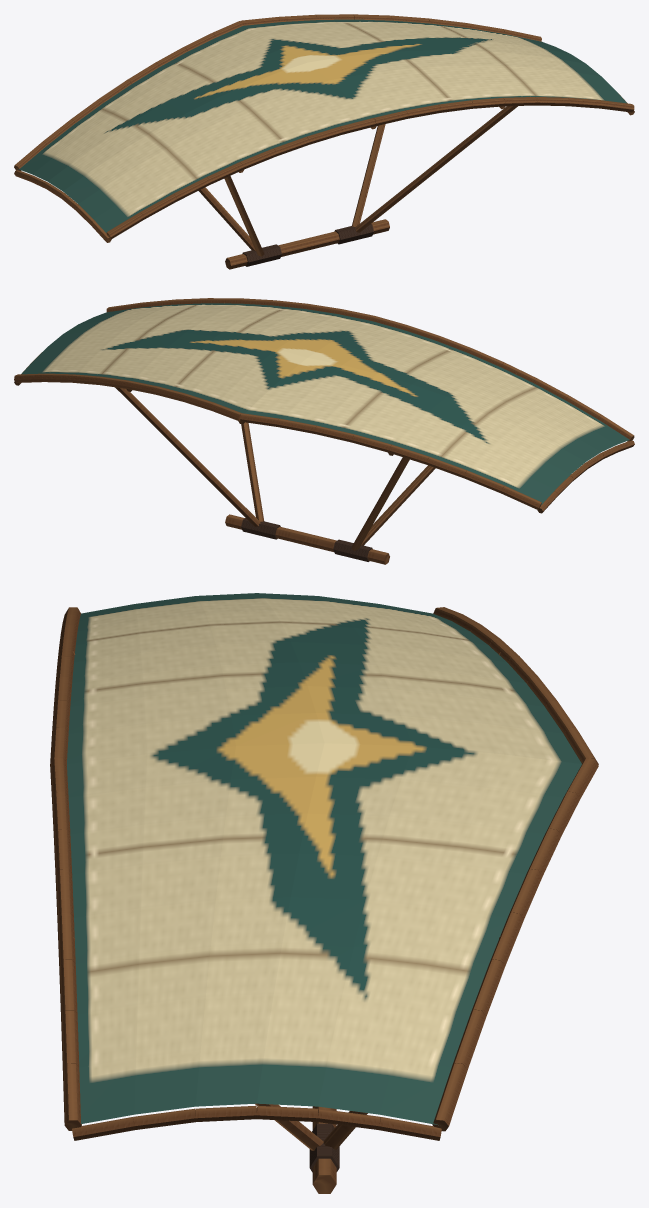
Rendered from dawnlight-glider.obj.
The picture shows the model from 3 angles, top to bottom: view 1: azimuth 30°, elevation 25°; view 2: azimuth 150°, elevation 25°; view 3: azimuth 270°, elevation 25°; orthographic projection. The views are drawn at different scales.
Visible parts, largest first — view 1: DawnlightGlider; view 2: DawnlightGlider; view 3: DawnlightGlider.
Boxes of the visible parts, left/top/right/bottom form: DawnlightGlider: left=14, top=14, right=634, bottom=269; DawnlightGlider: left=14, top=298, right=634, bottom=564; DawnlightGlider: left=50, top=593, right=598, bottom=1193.
Bounding box in the file's own units: 253 × 85.68 × 114.
1 material, 1 textured.
